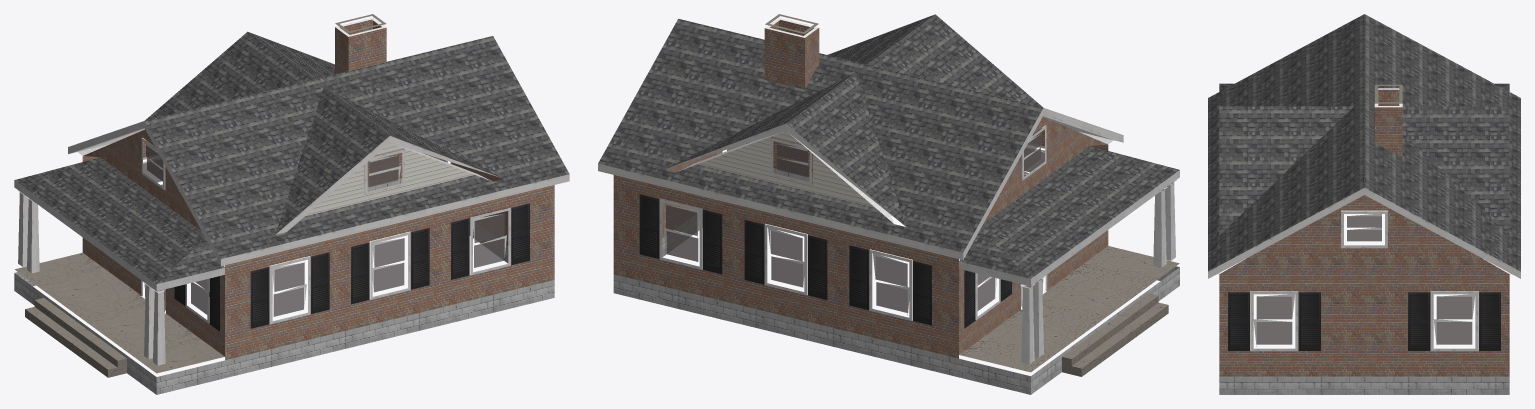
File: small-brick-y90.far.glb
3 views of the same model, side by side, from view 1: azimuth 30°, elevation 25°; view 2: azimuth 150°, elevation 25°; view 3: azimuth 270°, elevation 25° (orthographic). The views are drawn at different scales.
Parts seen in each view (by area): view 1: Material2 (×8); view 2: Material2 (×9); view 3: Material2 (×6).
Boxes of the visible parts, <box> form: Material2 (×8): <box>14,14,569,394</box>; Material2 (×9): <box>598,14,1179,394</box>; Material2 (×6): <box>1208,14,1520,394</box>.
Size of the model in its own units: 14.95 by 8.06 by 9.3.
14 materials, 8 textured.
